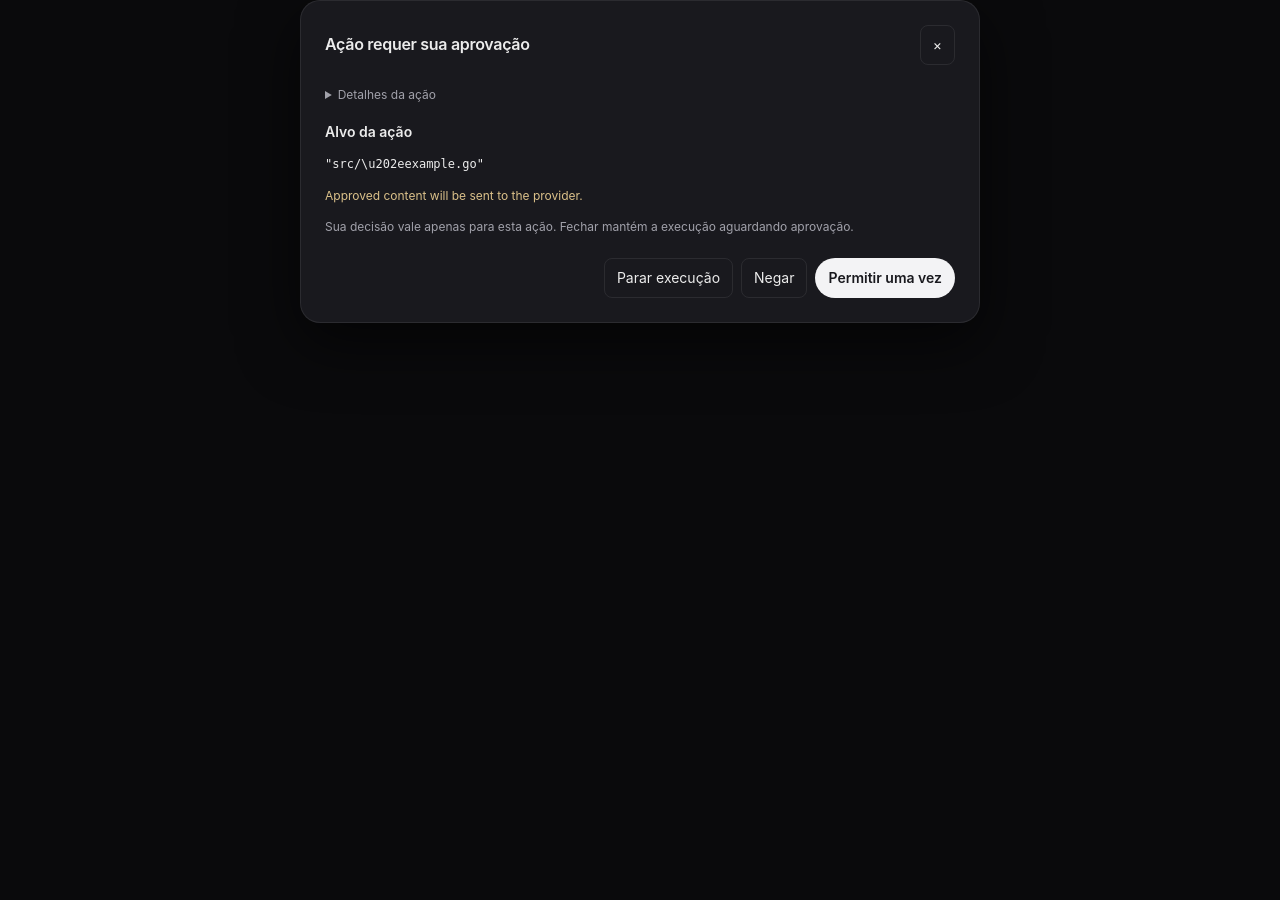
Test: refetches after a stale decision and never retries POST
This screenshot has width=1280, height=900.
What coordinates should you click on to do the following:
click the button "Permitir uma vez"
I would click on:
 (885, 278)
Its box is [816,258,955,298].
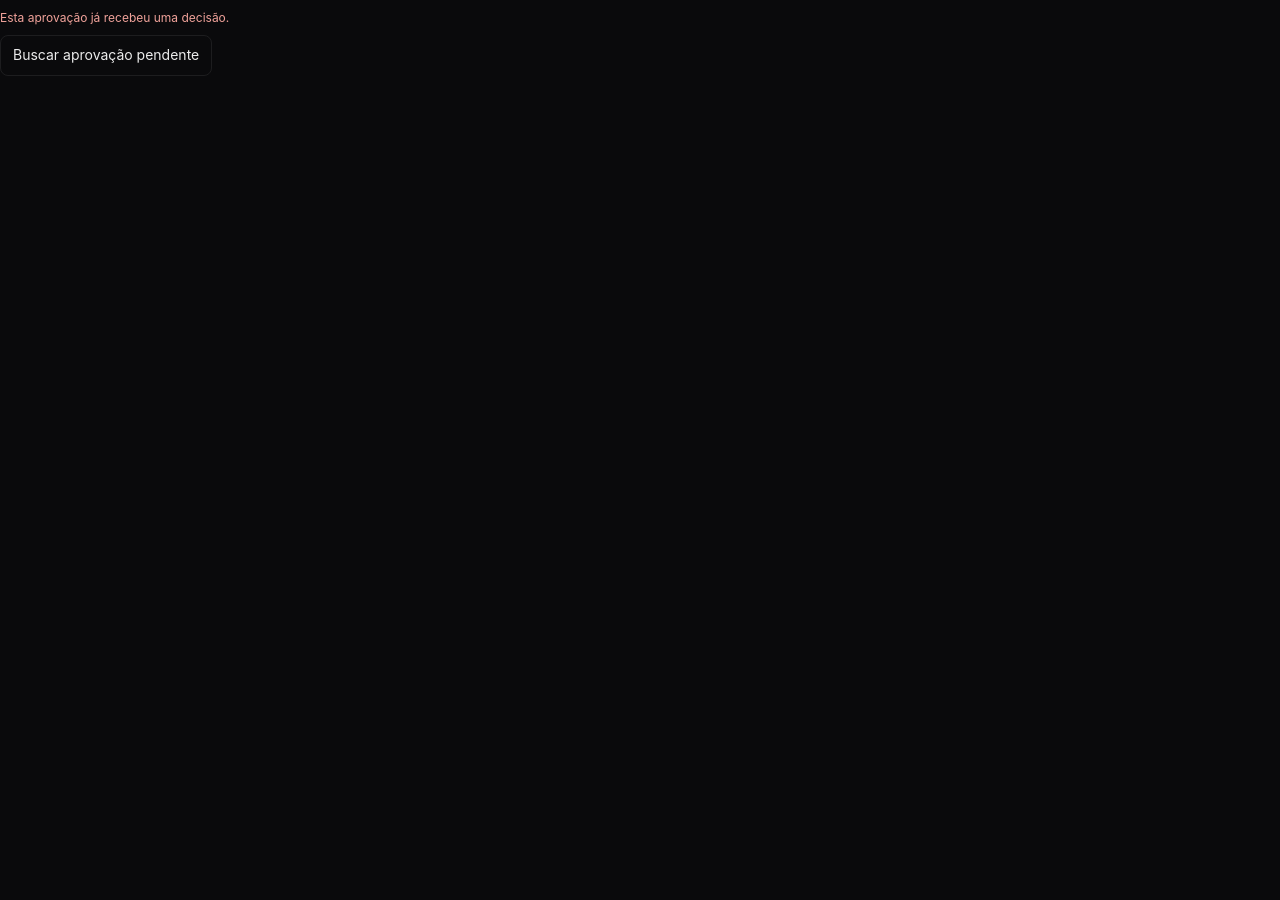
Check: the dialog is gone
Check: the message shows "recebeu uma decisão", box [0,10,229,25]
